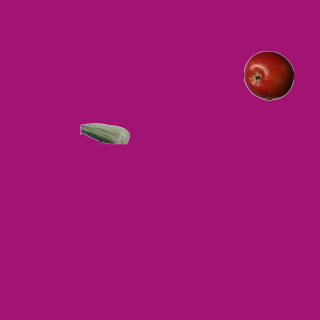Apple Braeburn: (243, 50, 293, 100)
Corn Husk: (79, 108, 129, 158)
